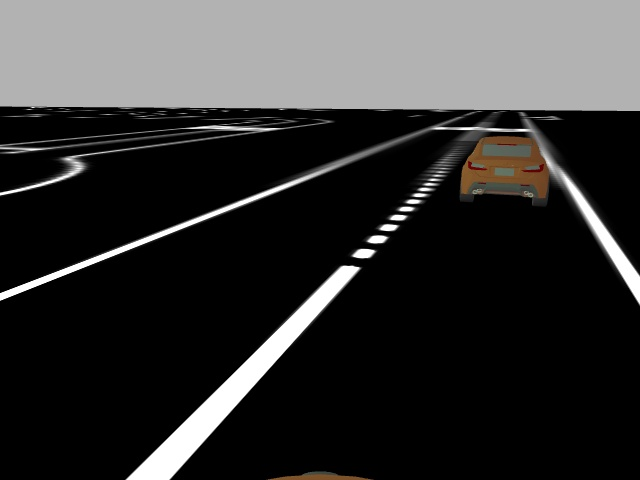obstacle_car: (456, 135, 552, 206)
